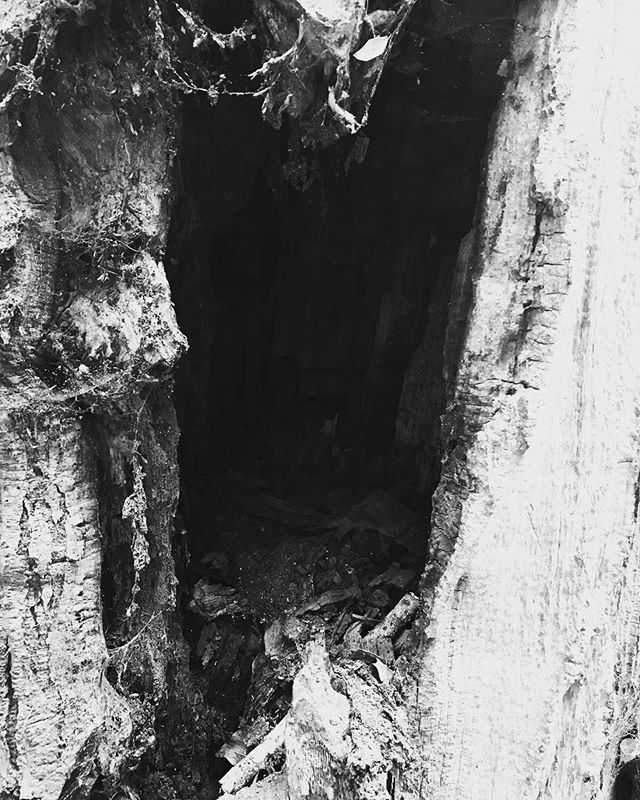tree trunk: (33, 2, 632, 769)
